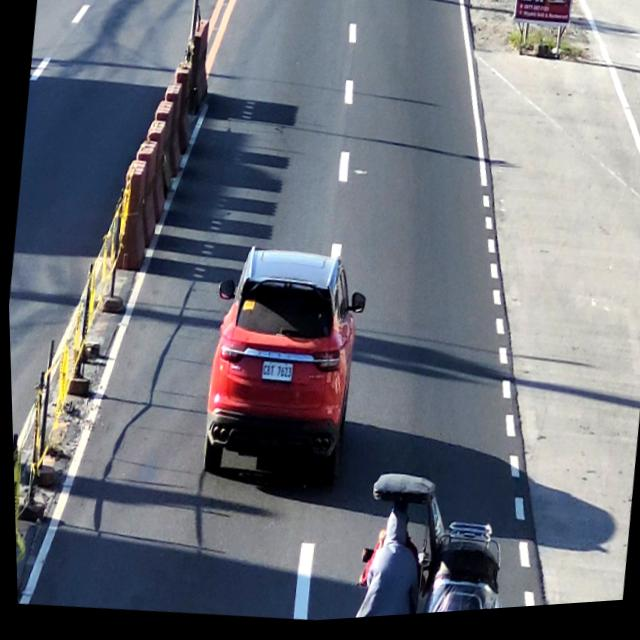Car: (194, 243, 363, 493)
License-Plate: (256, 362, 293, 391)
Tricycle: (343, 466, 514, 623)
